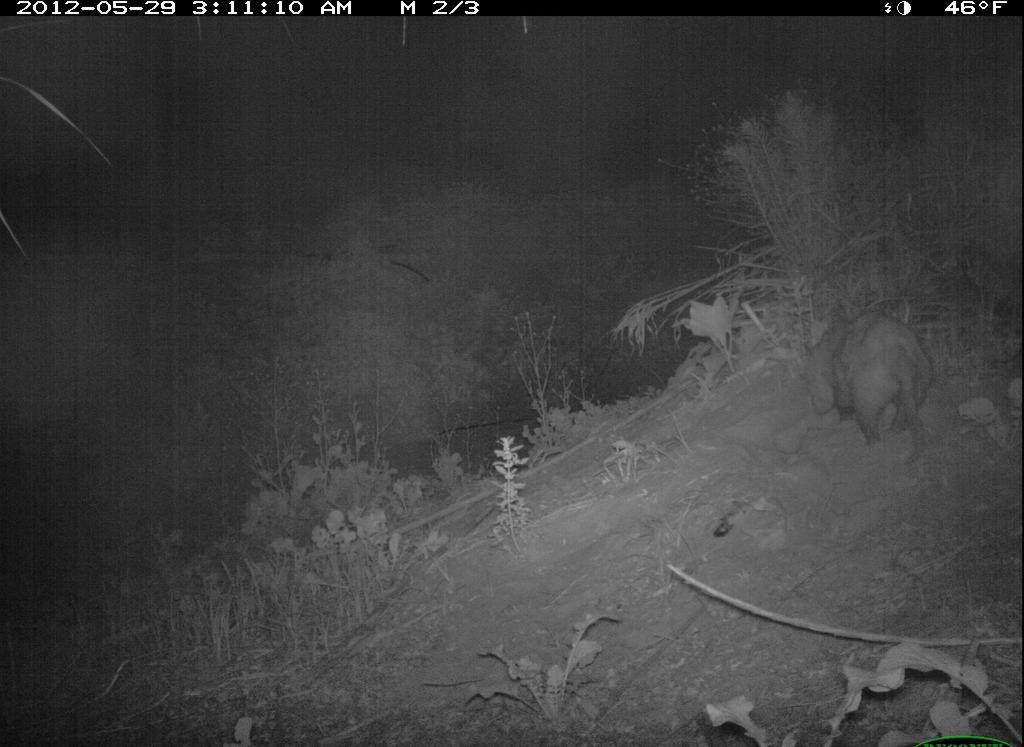opossum: (797, 296, 958, 488)
